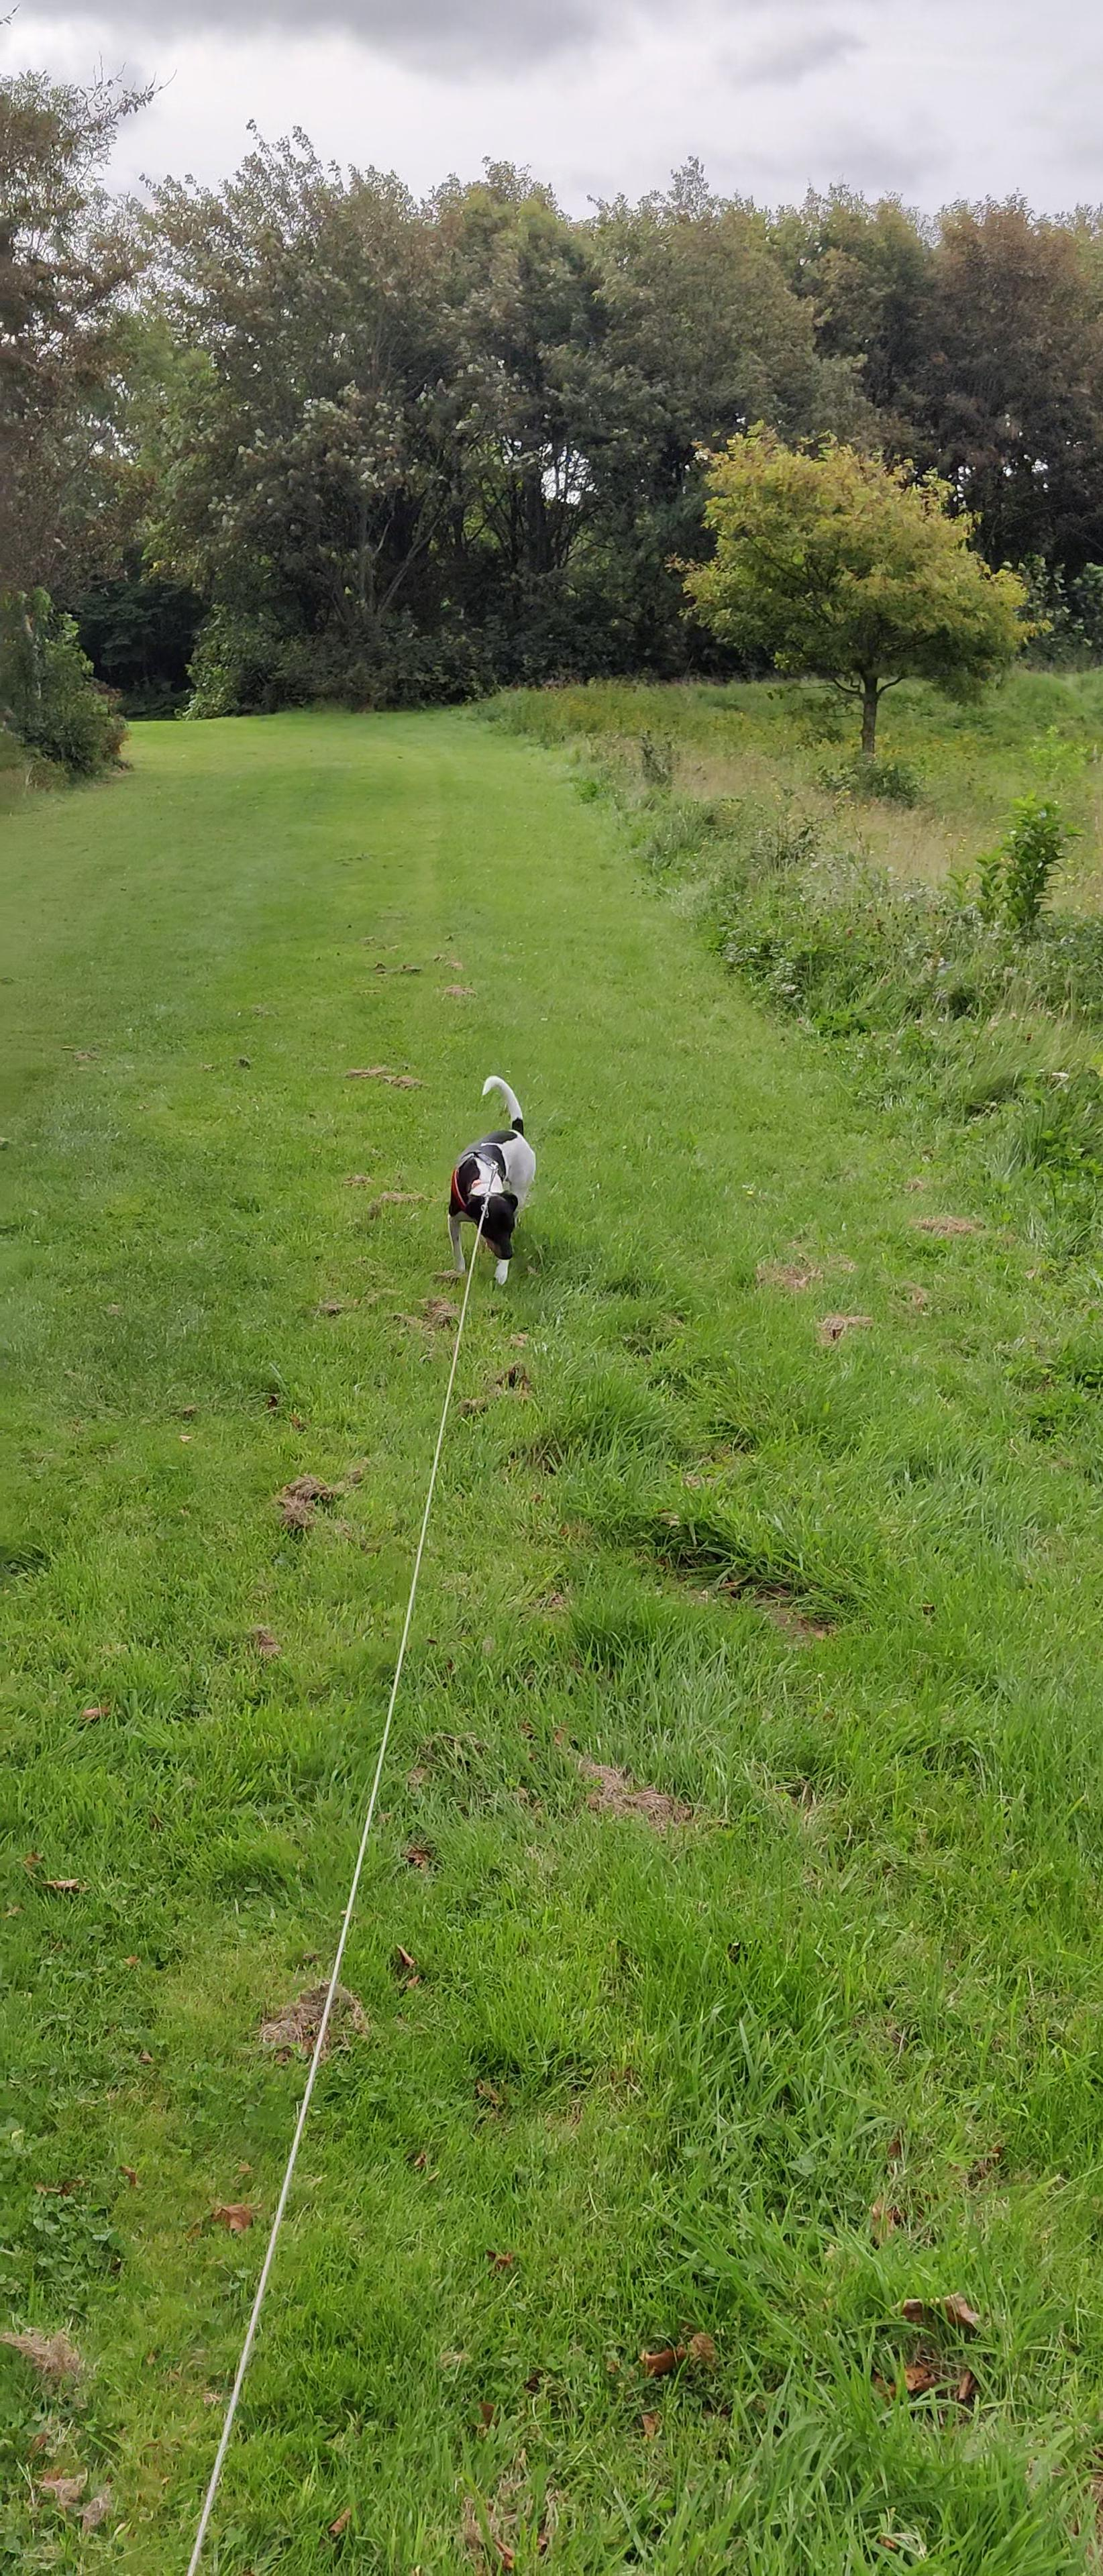Dog: (424, 1065, 549, 1298)
